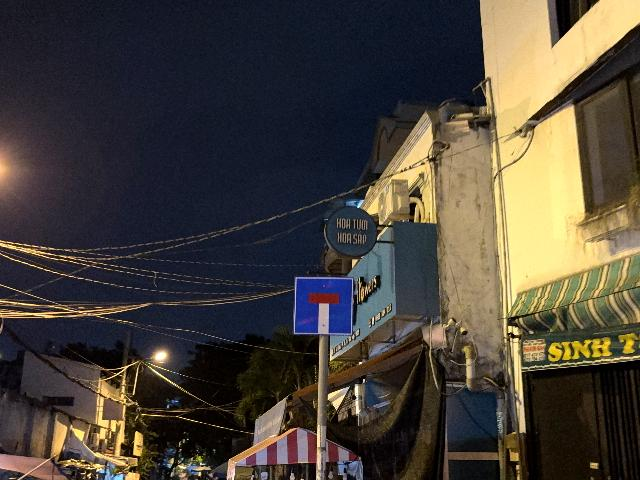duong-cut: (294, 276, 353, 335)
